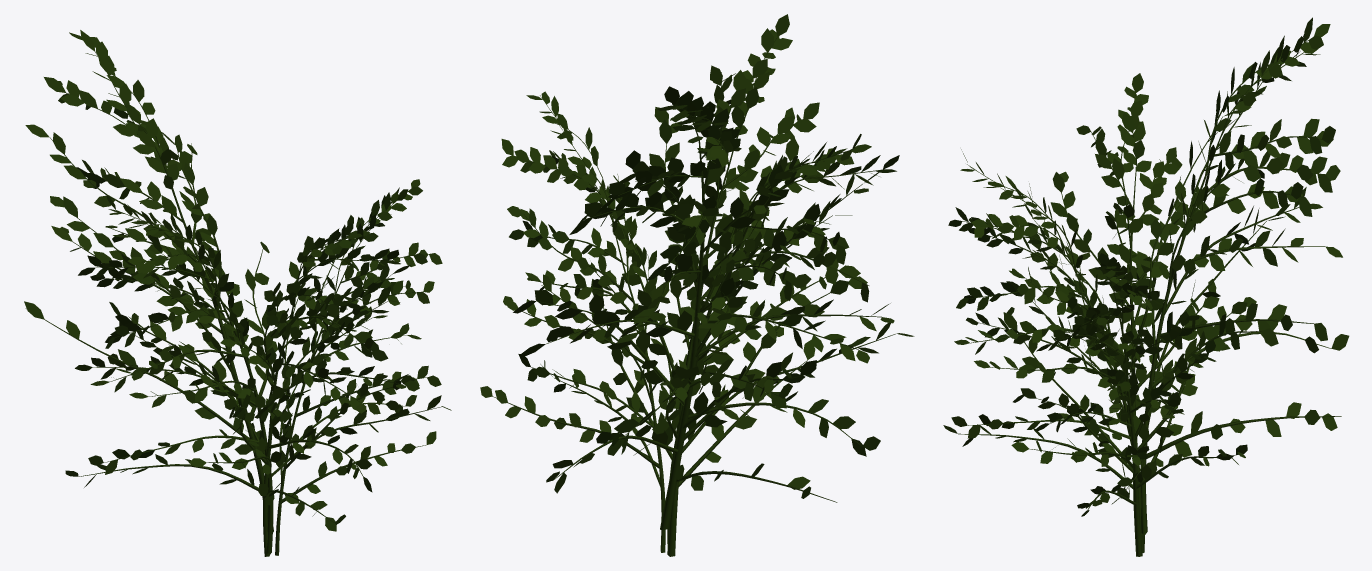
File: bush1.obj
3 renders of one model, left to right at view 1: azimuth 30°, elevation 25°; view 2: azimuth 150°, elevation 25°; view 3: azimuth 270°, elevation 25°, orthographic. The views are drawn at different scales.
Visible parts, largest first — view 1: tree.002; view 2: tree.002; view 3: tree.002.
Part boxes in pixels (x1,y1,x2,y2): tree.002: [24, 30, 451, 556]; tree.002: [480, 14, 914, 556]; tree.002: [943, 17, 1349, 556].
Bounding box in the file's own units: 2.81 × 4.07 × 3.1.
